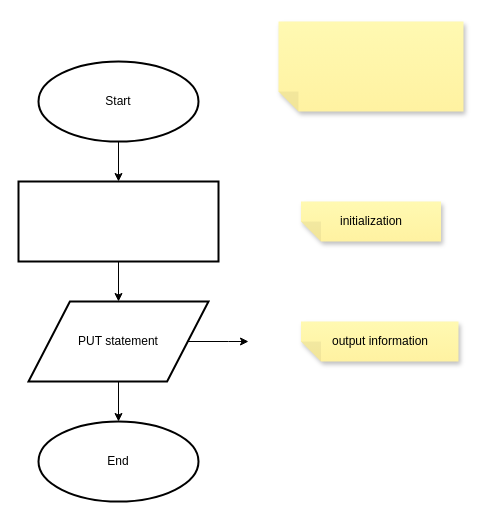
Some shapes in this 486 by 519 pixel diagram are drawn without their labels. Each missing label, with the centre of its shape:
Author: Moniquia Hicks Date: 1/24/2025 Program: HelloWorld.draw.io Version: 1.0: point (371, 67)
statement <-- "Hello, world!": point (118, 221)
